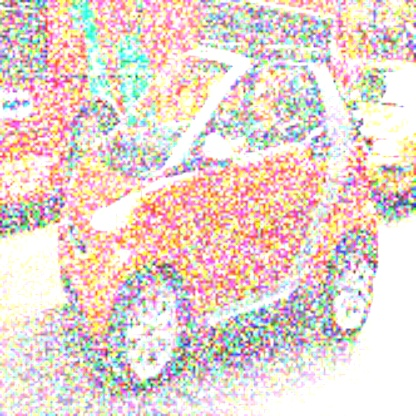Vehicle: (57, 47, 382, 391)
